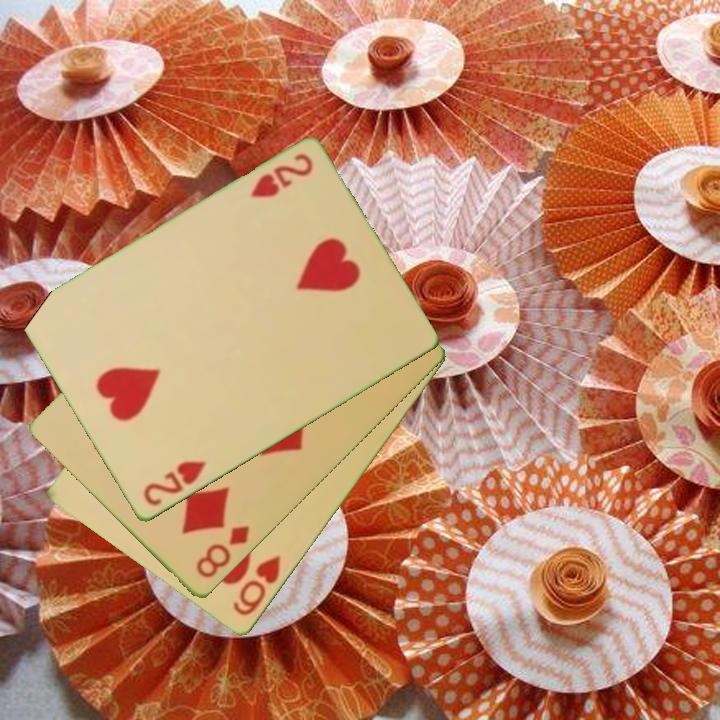2h: (139, 457, 209, 510), (247, 150, 316, 202)
6h: (229, 552, 284, 620)
8d: (192, 522, 253, 582)
